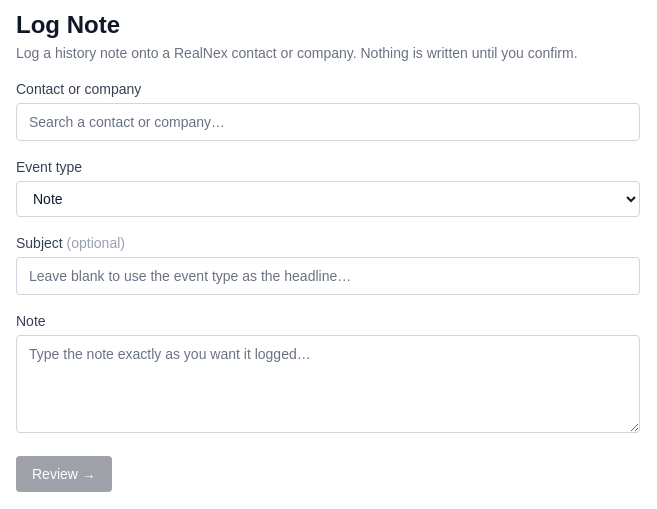
Test: Log Note page › Review is disabled until an entity AND a note are present
The image size is (657, 509).
Check: the button "Review →" is disabled, box [16,456,112,492]
Type "mar" into the dropdown with placeholder "Search a contact or company…" at x=328, y=122, box [16,103,640,141]
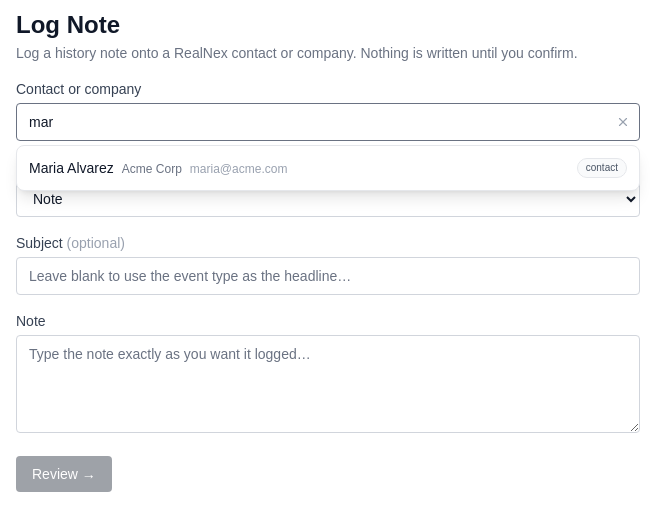
Click the text "Maria Alvarez" at x=71, y=168, box [29,160,114,176]
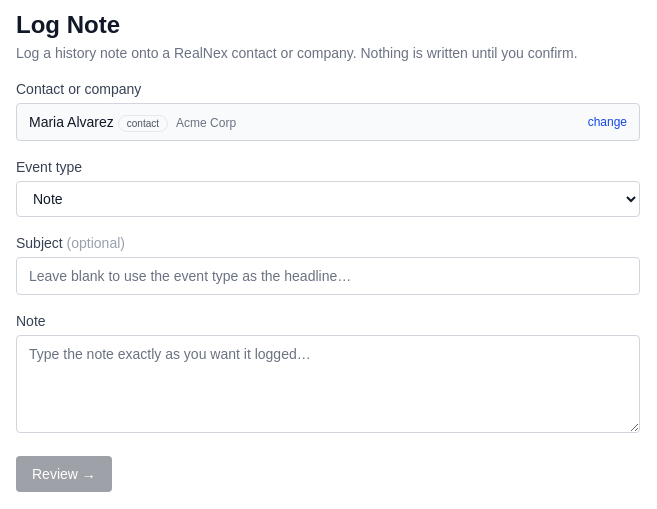
Check: the button "Review →" is disabled, box [16,456,112,492]
Type "x" into the text box labelled "Note" at x=328, y=384, box [16,335,640,433]
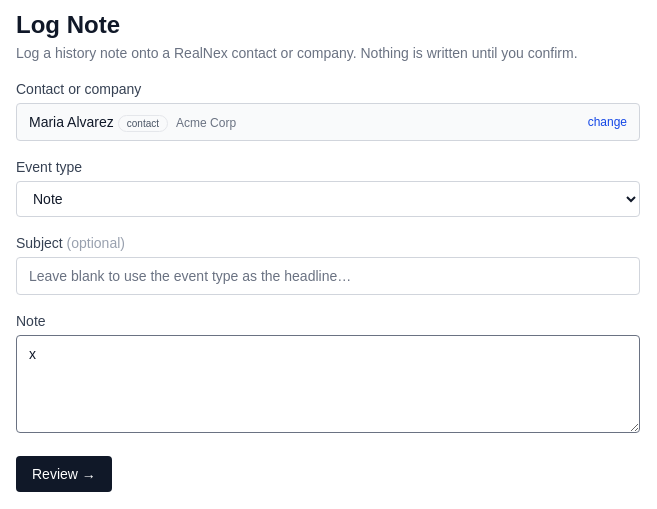
Check: the button "Review →" is enabled, box [16,456,112,492]
